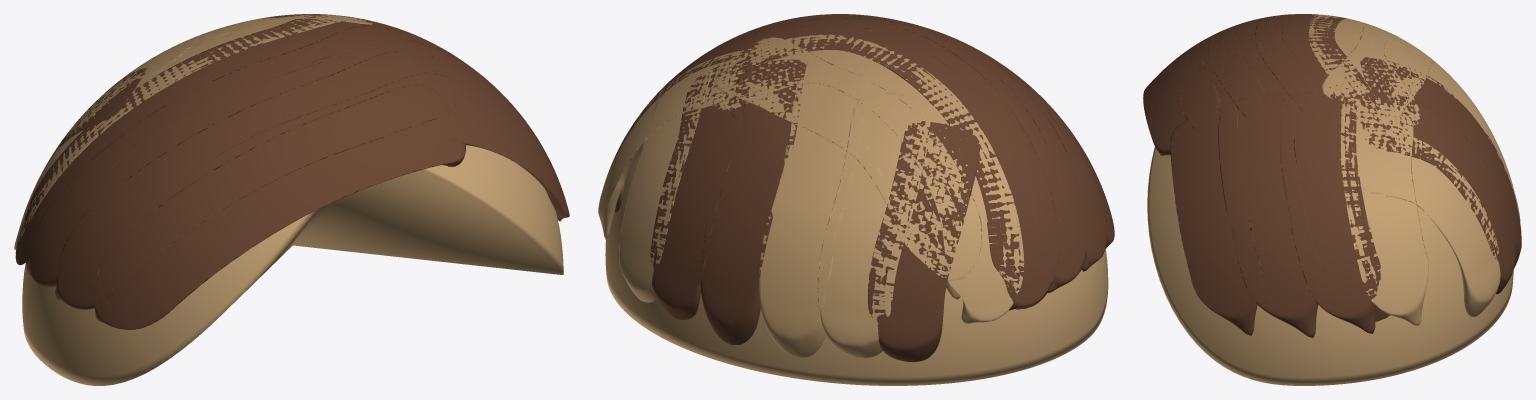
The model's file is Highlights-3c07971bc987251-hair.glb.
The picture shows the model from 3 angles, left to right: view 1: azimuth 30°, elevation 25°; view 2: azimuth 150°, elevation 25°; view 3: azimuth 270°, elevation 25°; orthographic projection. The views are drawn at different scales.
Parts seen in each view (by area): view 1: 226 hair / Hair / sculpted 0.001, 226 hair / Hair / sculpted 1.002, 226 hair / Hair / sculpted 1.001, 226 hair / Hair / sculpted 2.001; view 2: 226 hair / Hair / sculpted 1.001, 226 hair / Hair / sculpted 0.001, 226 hair / Hair / sculpted 2.001, 226 hair / Hair / sculpted 1.002; view 3: 226 hair / Hair / sculpted 0.001, 226 hair / Hair / sculpted 1.001, 226 hair / Hair / sculpted 2.001, 226 hair / Hair / sculpted 1.002.
Part boxes in pixels (x1=…): 226 hair / Hair / sculpted 0.001: x1=15, y1=14, x2=569, y2=329; 226 hair / Hair / sculpted 1.002: x1=22, y1=145, x2=563, y2=385; 226 hair / Hair / sculpted 1.001: x1=14, y1=14, x2=547, y2=309; 226 hair / Hair / sculpted 2.001: x1=29, y1=18, x2=490, y2=286; 226 hair / Hair / sculpted 1.001: x1=615, y1=14, x2=1107, y2=358; 226 hair / Hair / sculpted 0.001: x1=598, y1=18, x2=1114, y2=362; 226 hair / Hair / sculpted 2.001: x1=609, y1=14, x2=1086, y2=357; 226 hair / Hair / sculpted 1.002: x1=605, y1=151, x2=1108, y2=385; 226 hair / Hair / sculpted 0.001: x1=1143, y1=14, x2=1521, y2=335; 226 hair / Hair / sculpted 1.001: x1=1170, y1=14, x2=1515, y2=337; 226 hair / Hair / sculpted 2.001: x1=1208, y1=14, x2=1520, y2=333; 226 hair / Hair / sculpted 1.002: x1=1147, y1=146, x2=1513, y2=385.
Bounding box in the file's own units: 0.96 × 0.5092 × 0.723.
